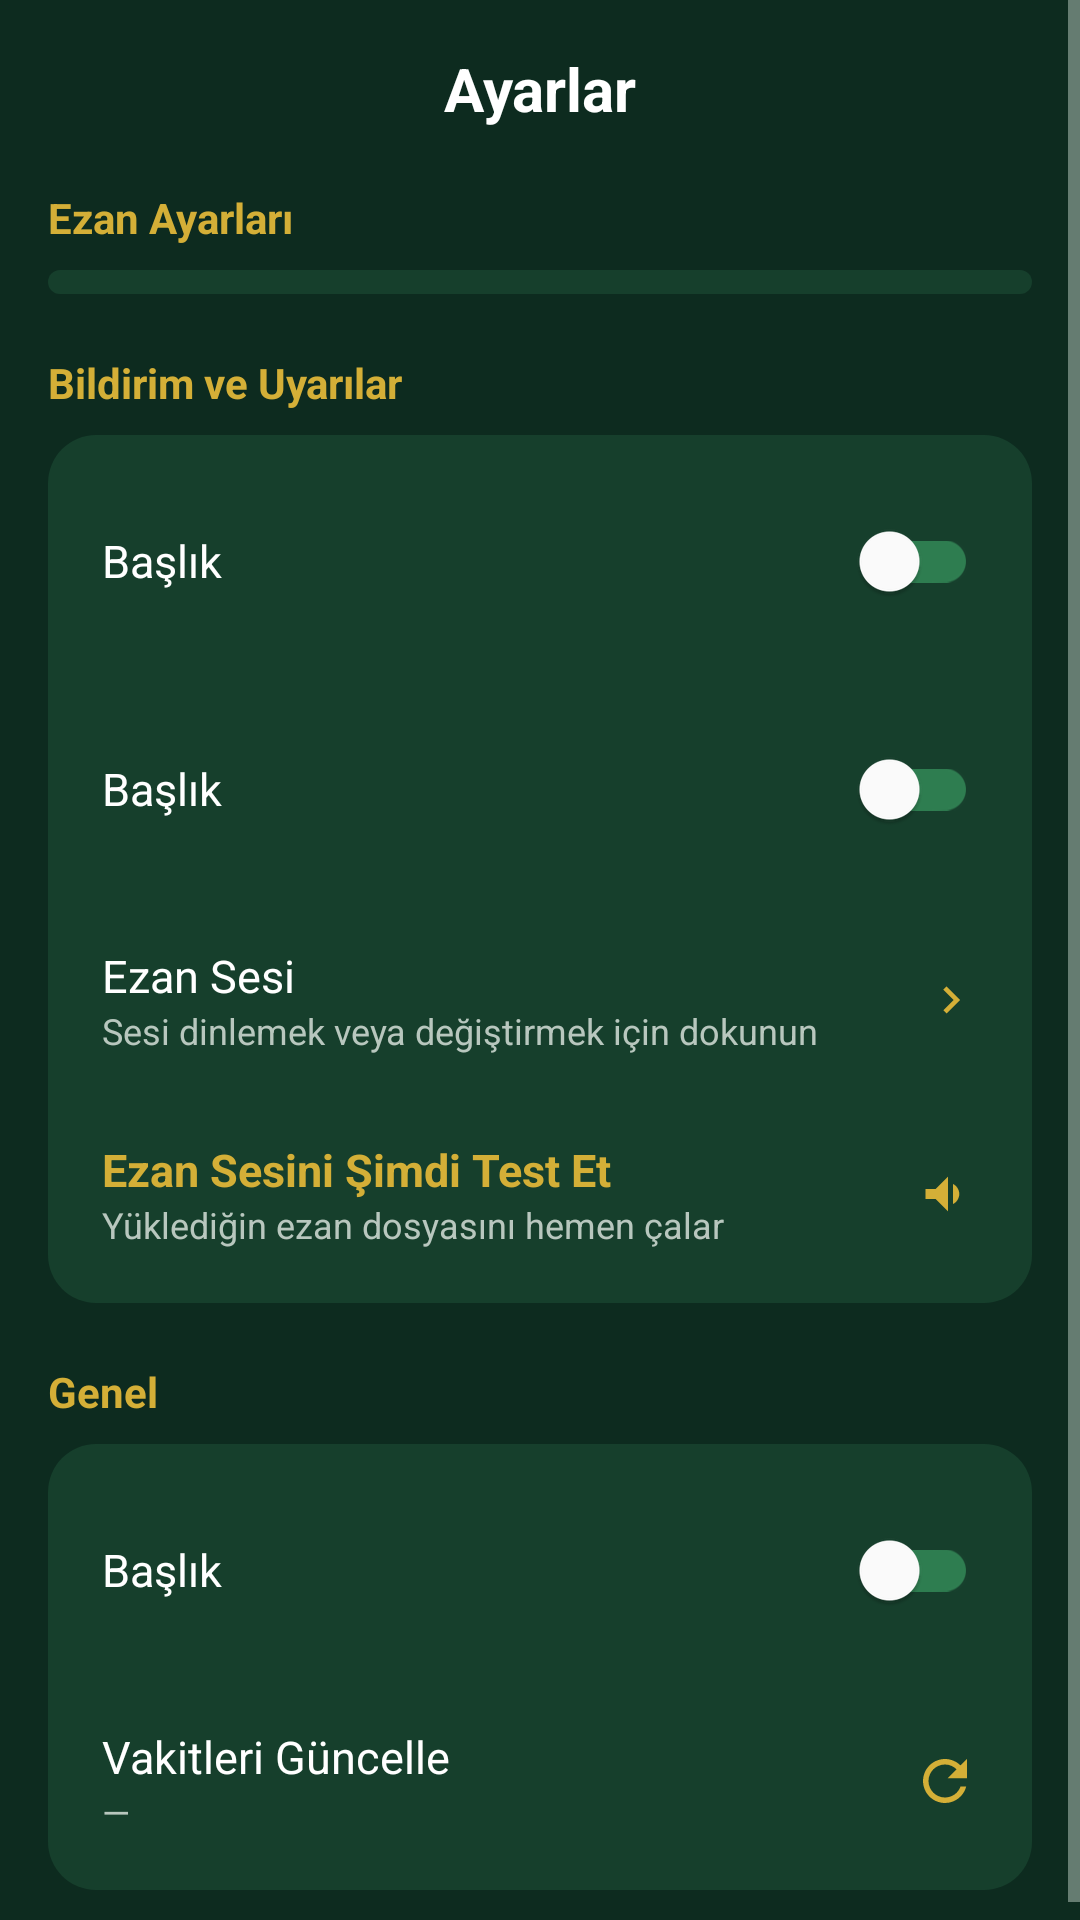

Named icons in this screenshot (1080 x 1920) and their bounding boxes, {"left": x1, "top": y1, "right": x2, "bottom": y2}:
arrow forward: {"left": 943, "top": 986, "right": 960, "bottom": 1014}
refresh: {"left": 923, "top": 1759, "right": 967, "bottom": 1803}
speaker: {"left": 925, "top": 1177, "right": 960, "bottom": 1211}
